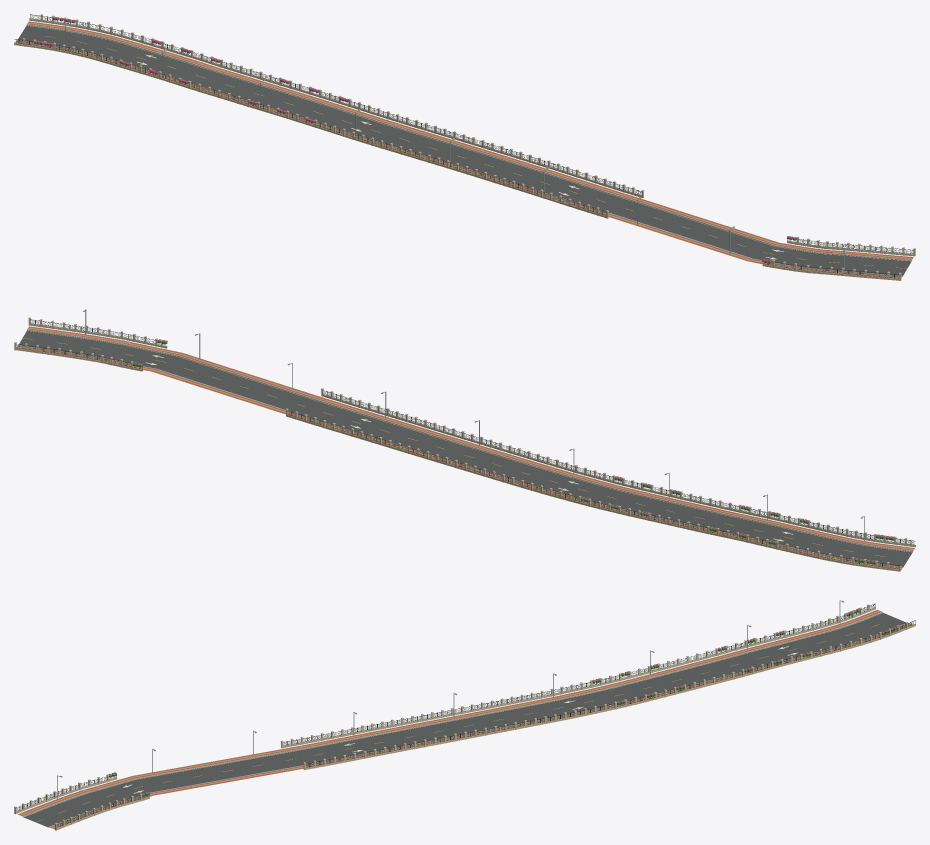
The model's file is infra-road-03.glb.
3 renders of one model, top to bottom at view 1: azimuth 30°, elevation 25°; view 2: azimuth 210°, elevation 25°; view 3: azimuth 270°, elevation 25°, orthographic. The views are drawn at different scales.
Visible parts, largest first — view 1: infra-road-03; view 2: infra-road-03; view 3: infra-road-03.
Part boxes in pixels (x1,y1,x2,y2): infra-road-03: [14, 14, 915, 280]; infra-road-03: [14, 309, 915, 571]; infra-road-03: [14, 600, 915, 830].
Bounding box in the file's own units: 139 × 10.76 × 246.
12 materials, 1 textured.
